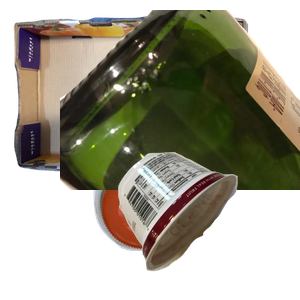cardboard: (11, 13, 251, 182)
glass: (60, 10, 300, 190)
plastic: (91, 152, 281, 300)
trash: (116, 149, 300, 300)
